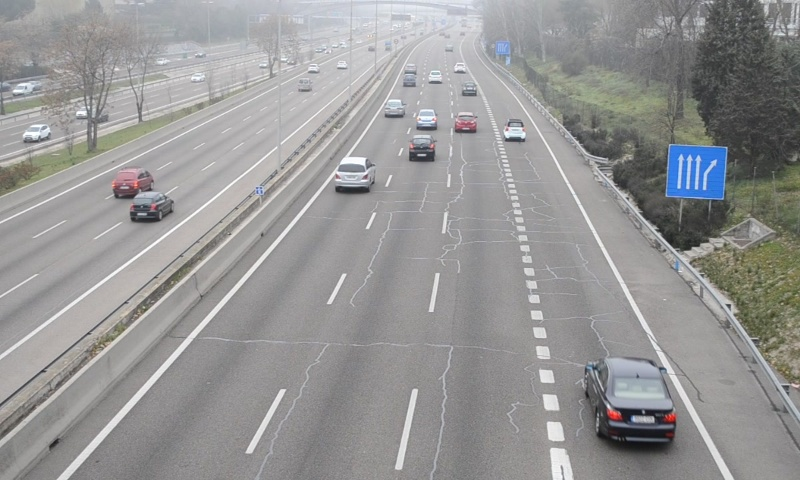car: (584, 356, 676, 443), (332, 156, 375, 189), (408, 134, 436, 162), (504, 118, 526, 142), (454, 112, 478, 134), (416, 108, 438, 130), (383, 99, 406, 118), (460, 80, 477, 97), (401, 74, 418, 88)
